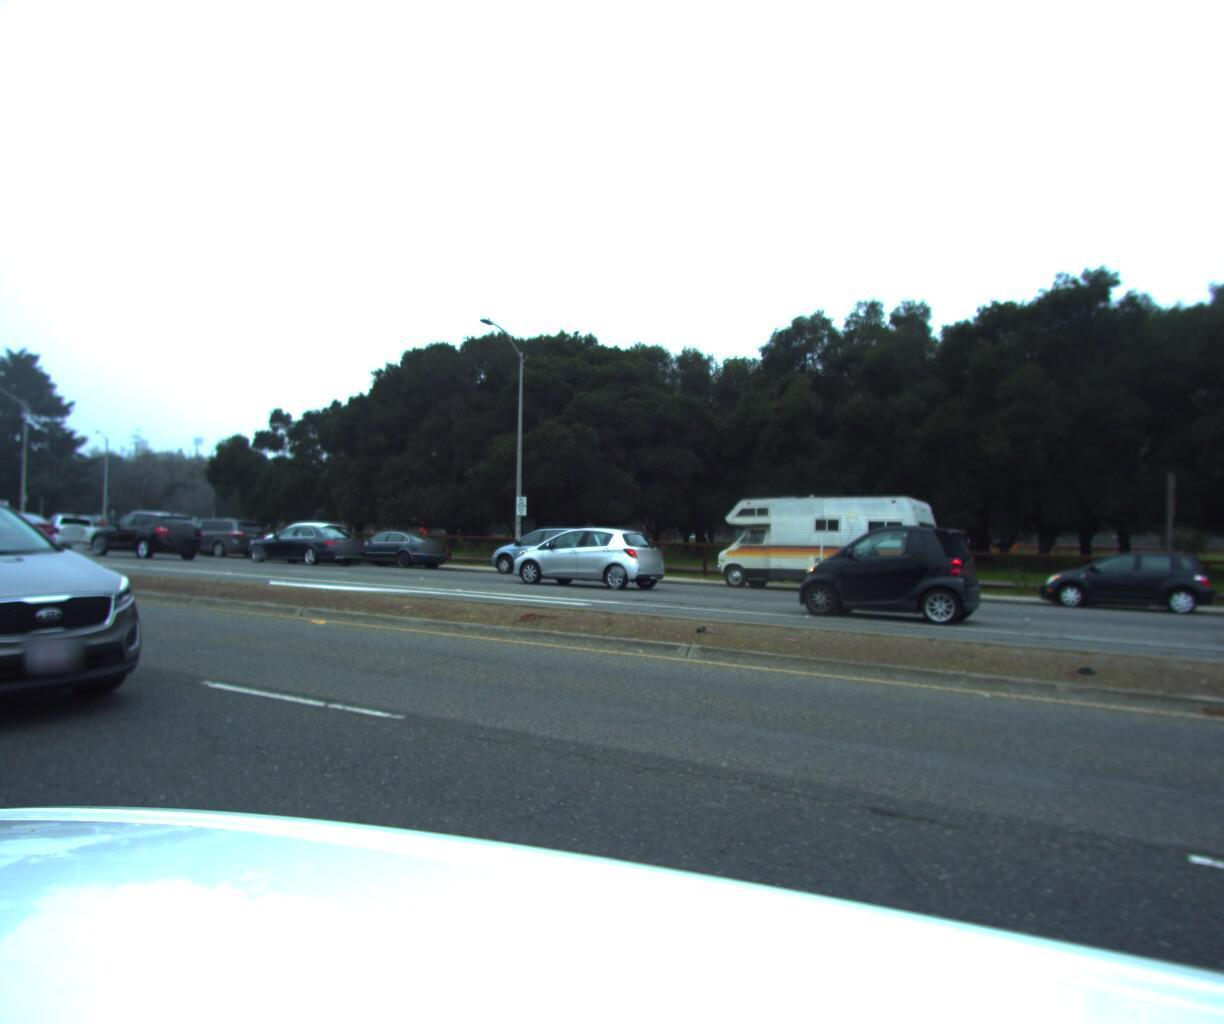car: (789, 518, 987, 627), (1032, 543, 1218, 621), (496, 517, 674, 589), (478, 519, 635, 584), (234, 516, 375, 563), (86, 506, 215, 558), (331, 521, 455, 568), (158, 510, 276, 559), (252, 513, 360, 563), (24, 506, 117, 548)
other_vehicle: (707, 486, 954, 610)
